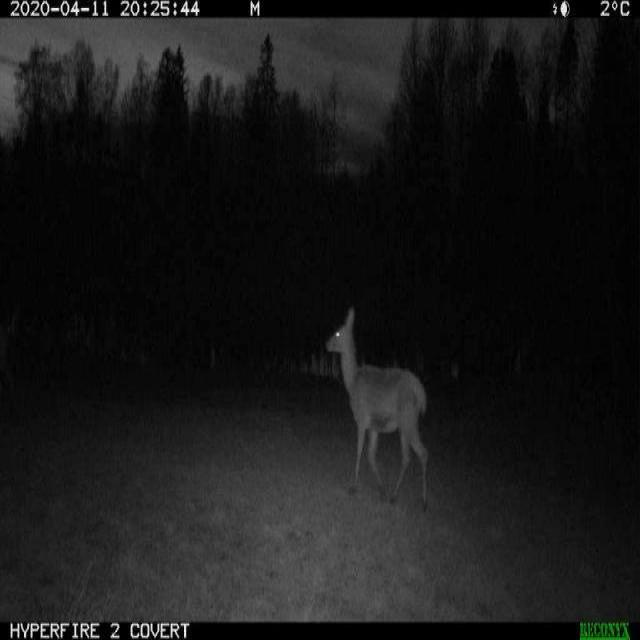deer: (317, 292, 435, 516)
